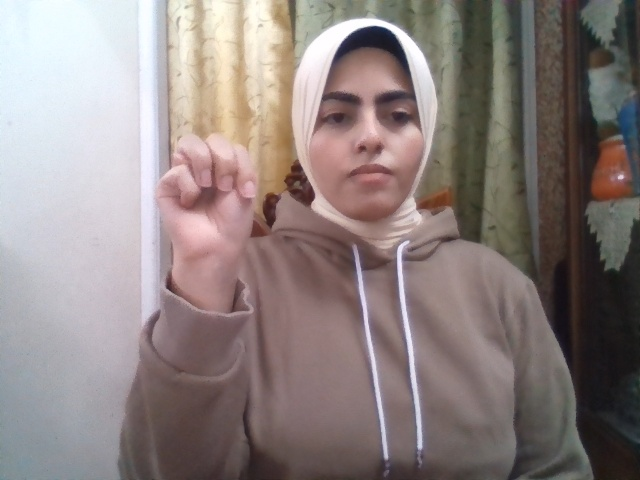M: (156, 133, 256, 269)
